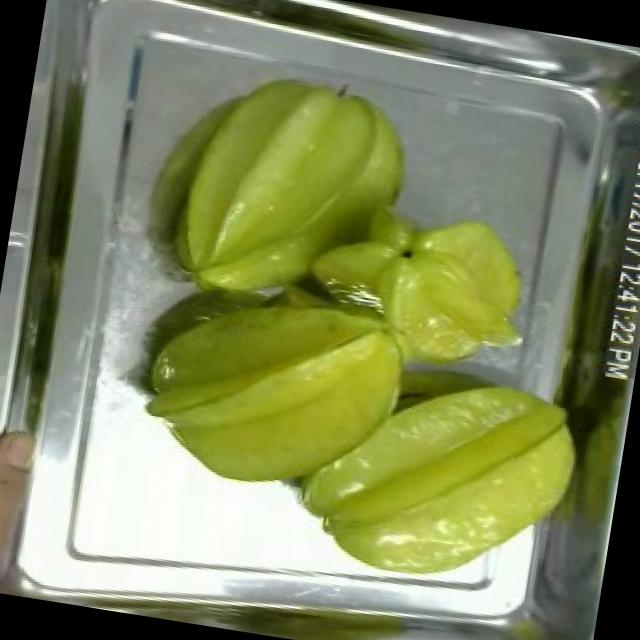fruit: (278, 341, 596, 611), (115, 254, 432, 518), (158, 49, 424, 328), (356, 194, 547, 392), (0, 416, 57, 598)
